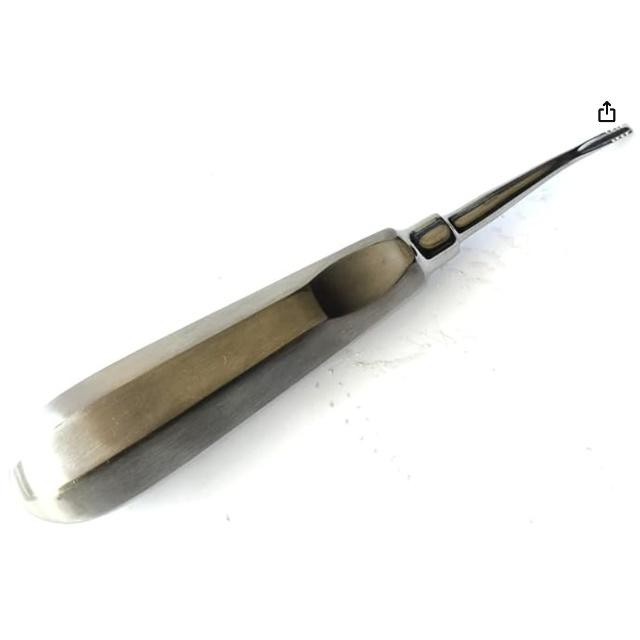botador: (10, 105, 632, 528)
